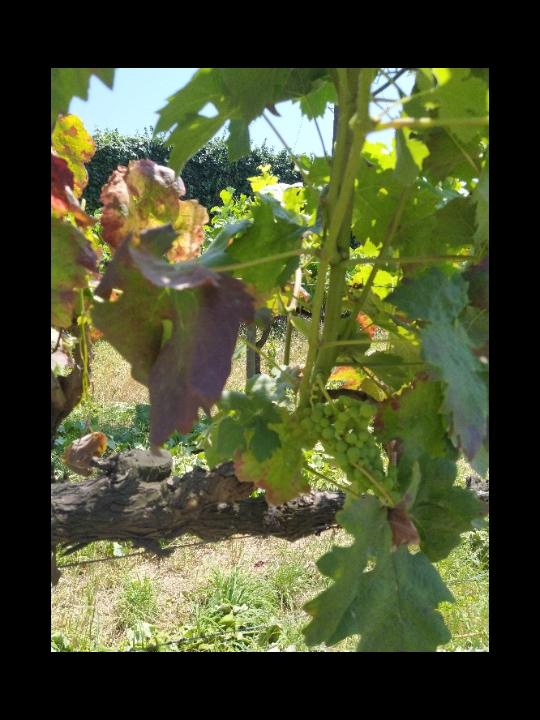grape: (296, 390, 388, 493)
